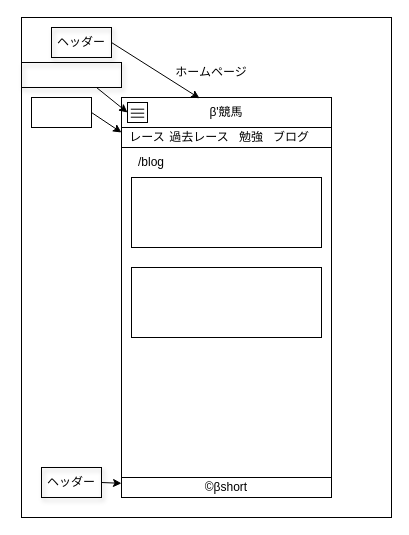
Image size: 409x535. Some labels were removed from this diagram. The shapes that lost their labels are listed below. From the top down, each one's centre as x and y in pixels, then its label:
At pixel 72 76: "サイドバーボタン".
At pixel 61 112: "ヘッダーメニュー".
